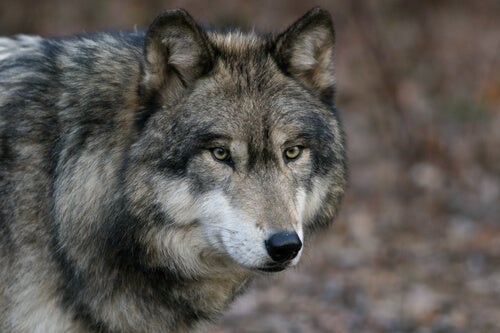Lobo: (4, 17, 355, 309)
